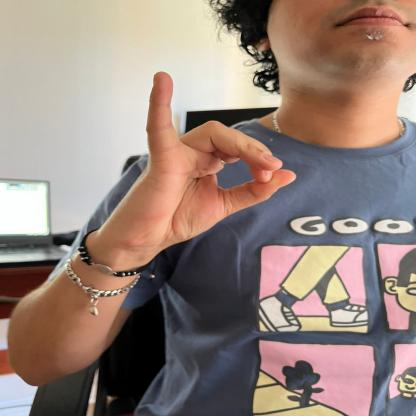D: (103, 64, 296, 249)
